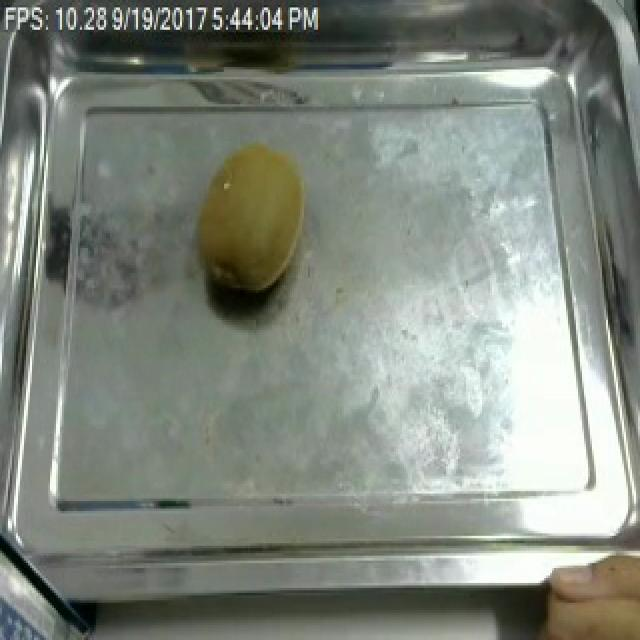Fruit: (190, 129, 318, 300), (514, 541, 640, 640)
